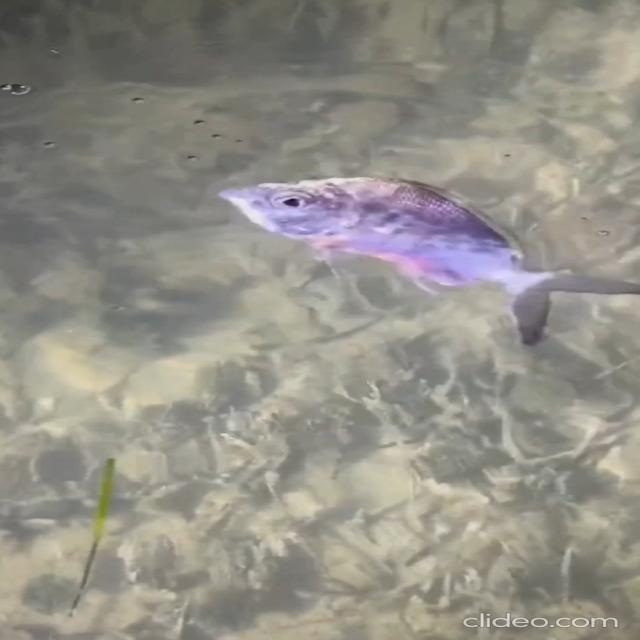fish: (209, 153, 640, 361)
